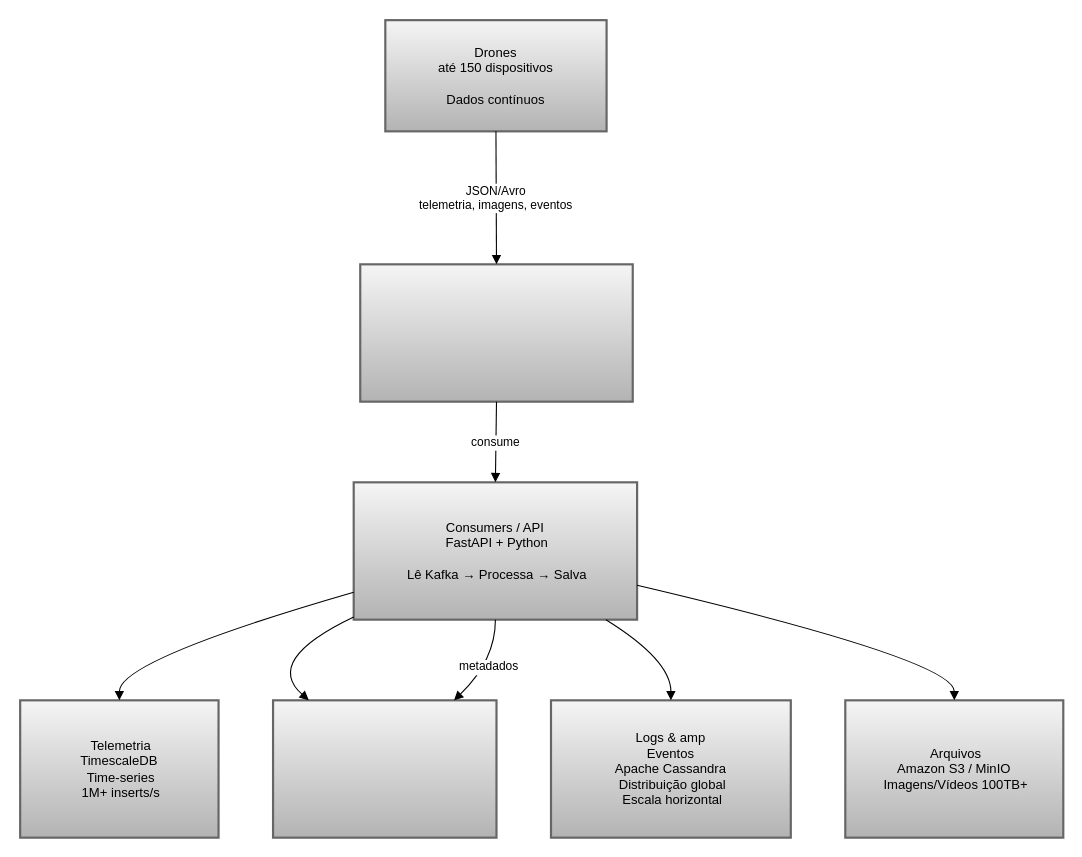
Image size: 1082x857. Some labels were removed from this diagram. Each missing label, with the centre of its shape:
Apache Kafka Partition: drone_id Replication: 3 Throughput: milhões/s: the point at 496,332
Dados Críticos PostgreSQL ACID/Transações Missões críticas: the point at 384,768
